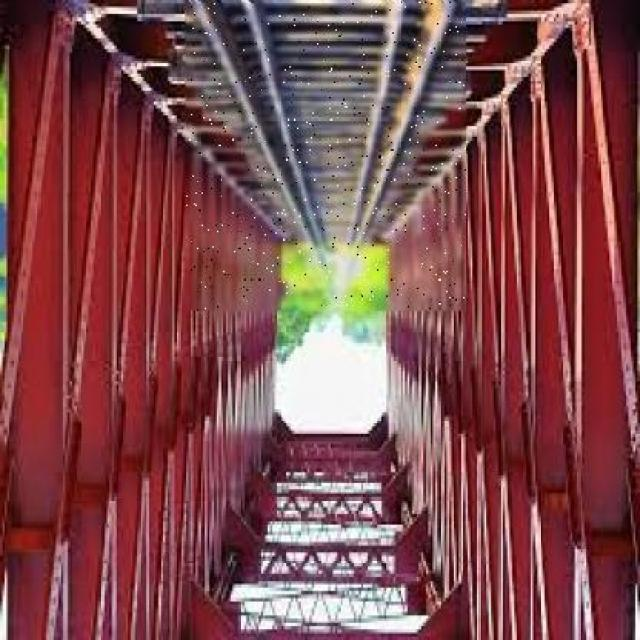rail: (186, 2, 465, 310)
